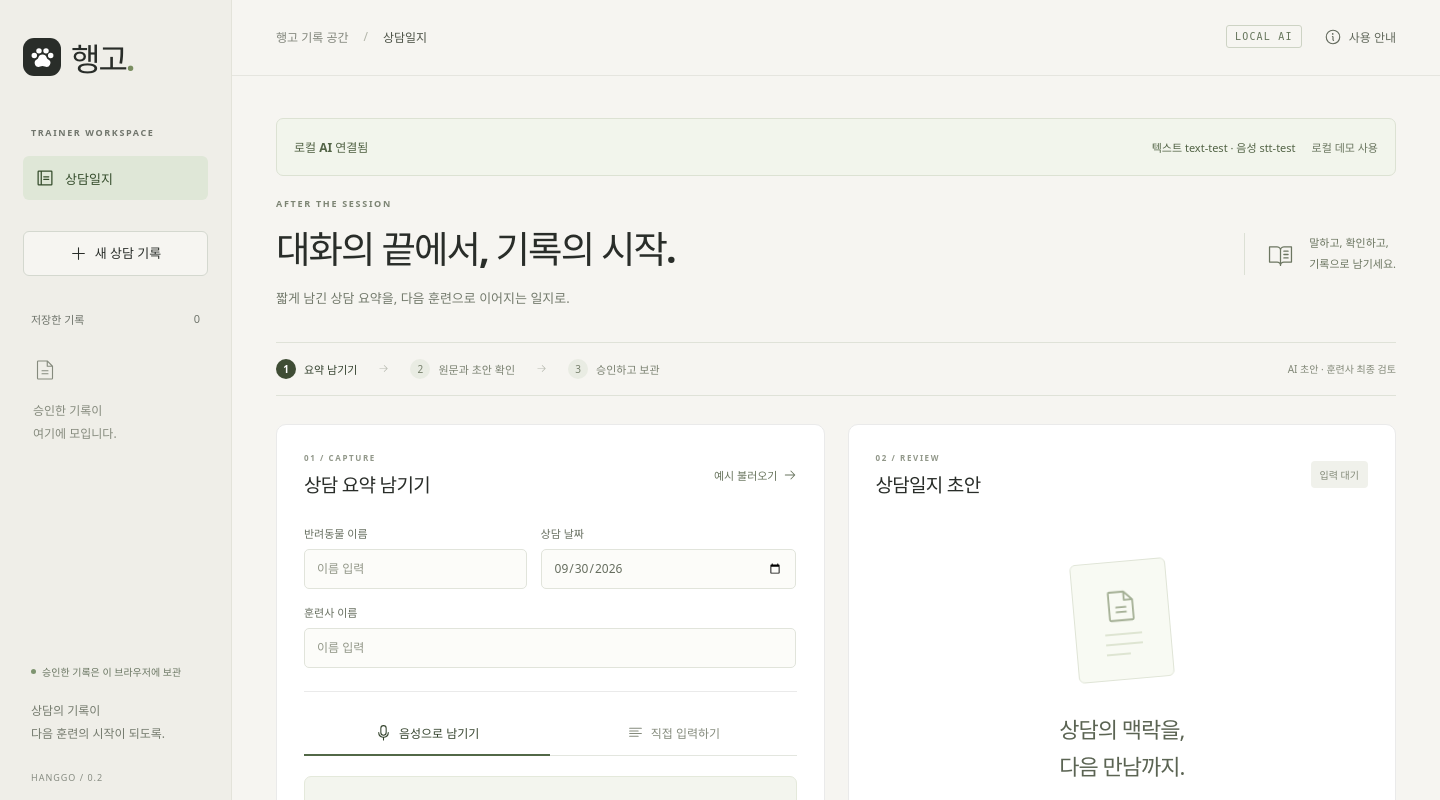
asks for consent before text reaches AI and renders model metadata
This screenshot has width=1440, height=800.
Click the button "예시 불러오기". click: [755, 475]
box: [714,460,796,490]
(page scrolled)
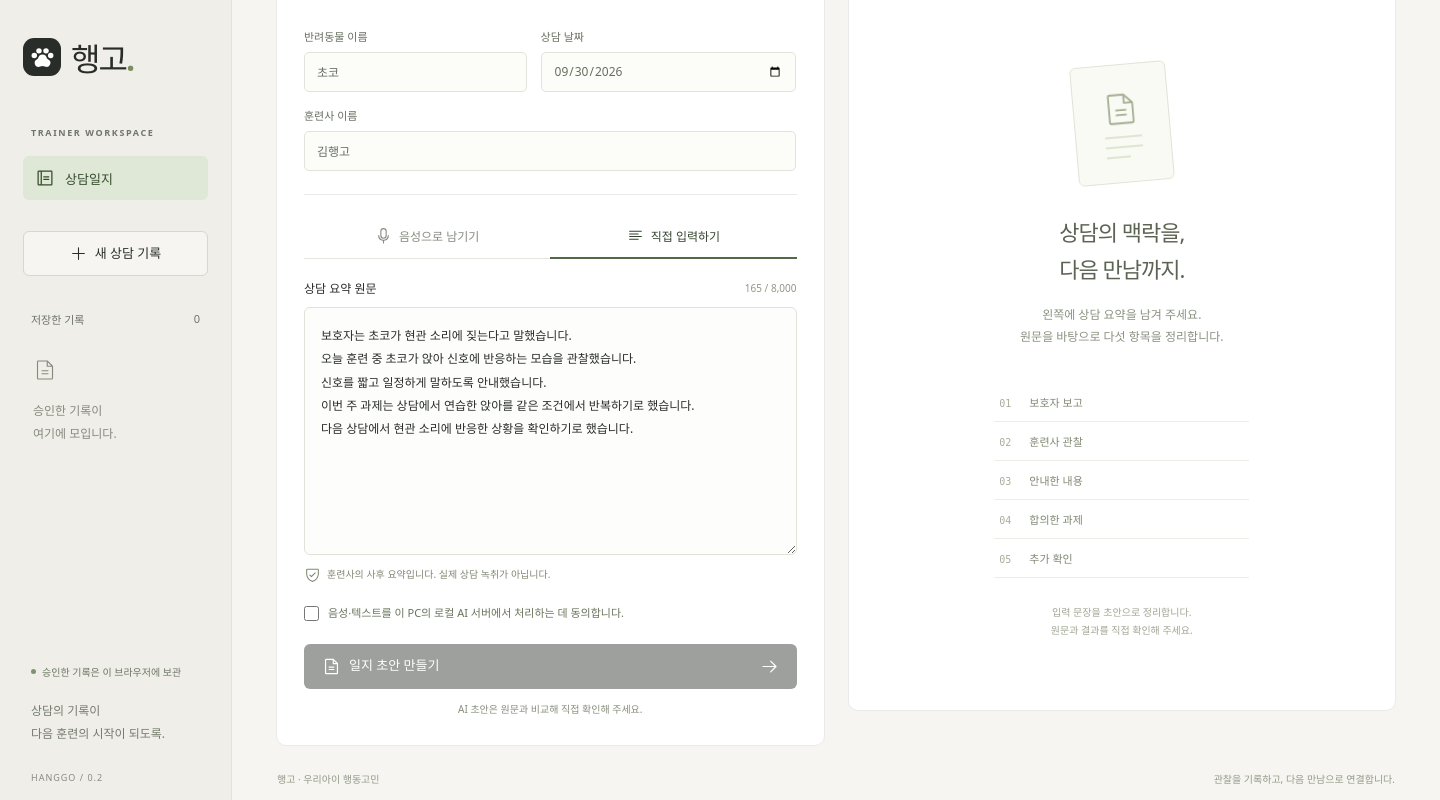
Expected: the button "일지 초안 만들기" is disabled, [304,644,796,689]
Click the checkbox labelled "음성·텍스트를 이 PC의 로컬 AI 서버에서 처리하는 데 동의합니다.". click: [312, 613]
box: [304,606,319,621]
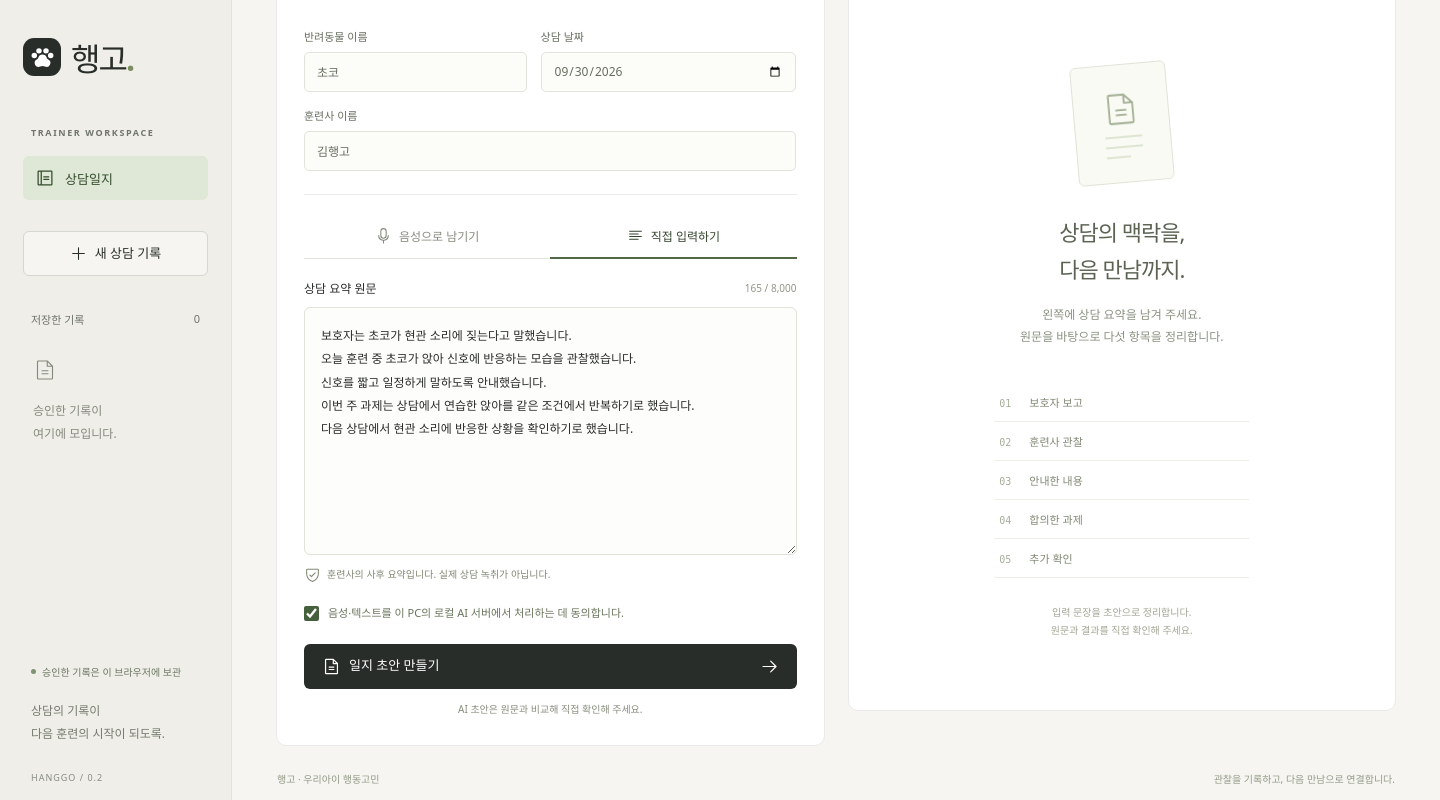
Click the button "일지 초안 만들기". click: [394, 665]
box: [304,644,796,689]
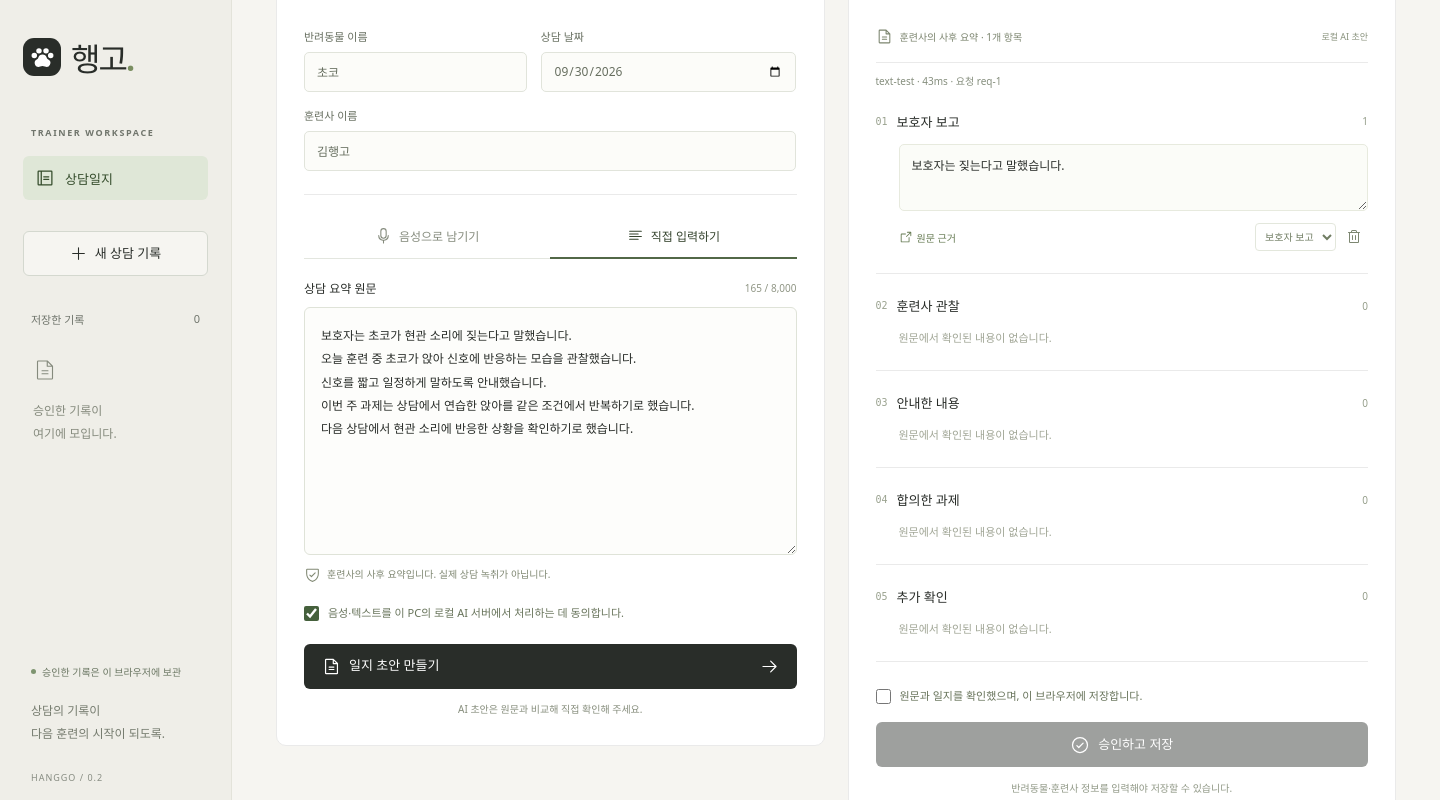
Result: the text "로컬 AI 초안" is shown at [1321,30,1368,43]
Result: the text "text-test · 43ms · 요청 req-1" is shown at [876,74,1001,88]
